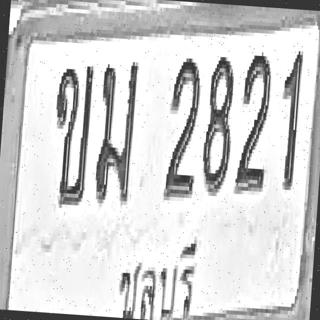A02: (49, 62, 94, 208)
A33: (93, 58, 138, 203)
N01: (276, 50, 303, 190)
N02: (163, 55, 202, 200), (234, 51, 272, 192)
N08: (200, 52, 236, 193)
P13: (112, 228, 200, 320)
